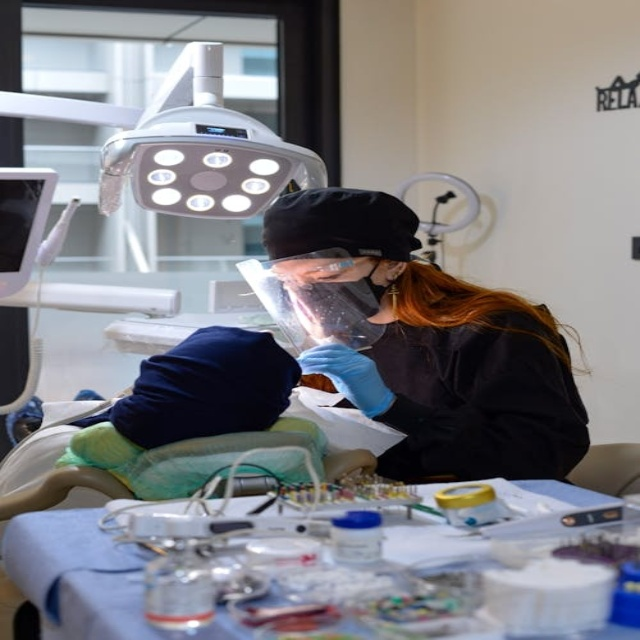Gafas: (256, 249, 379, 285)
Guantes: (296, 343, 395, 418)
Mascara: (279, 264, 396, 336)
